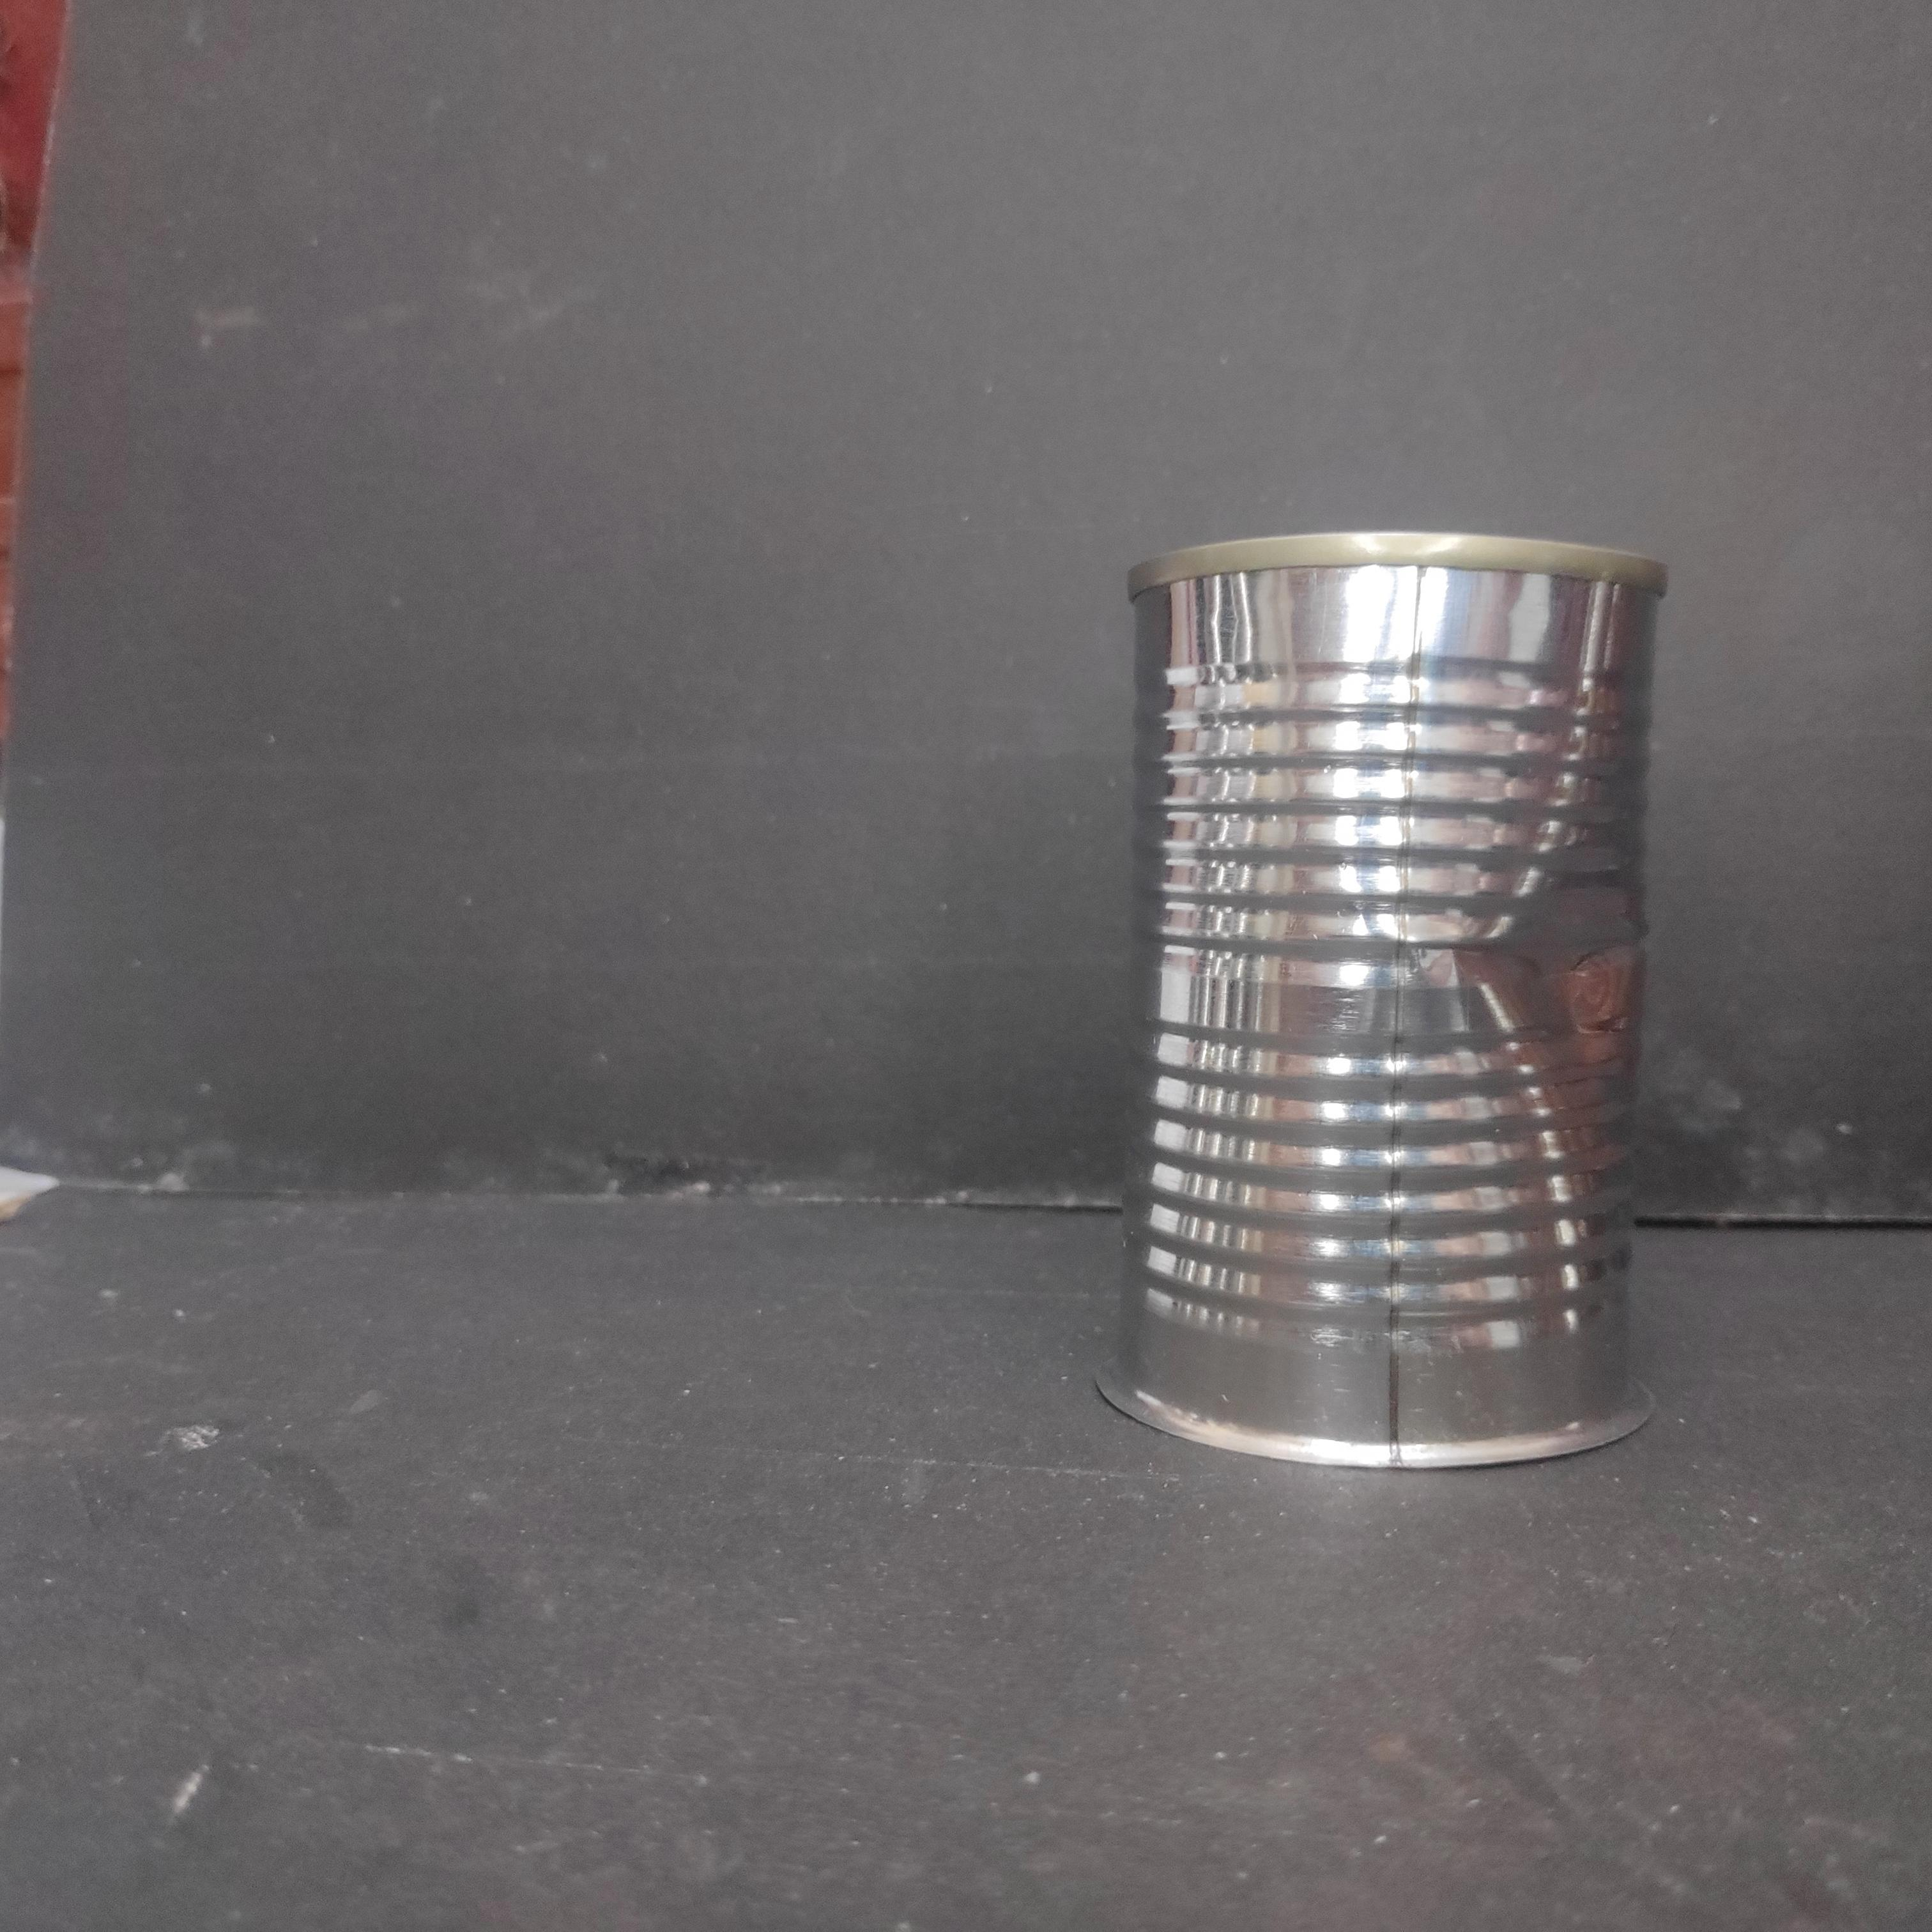Minor Defect: (1093, 518, 1678, 1487)
